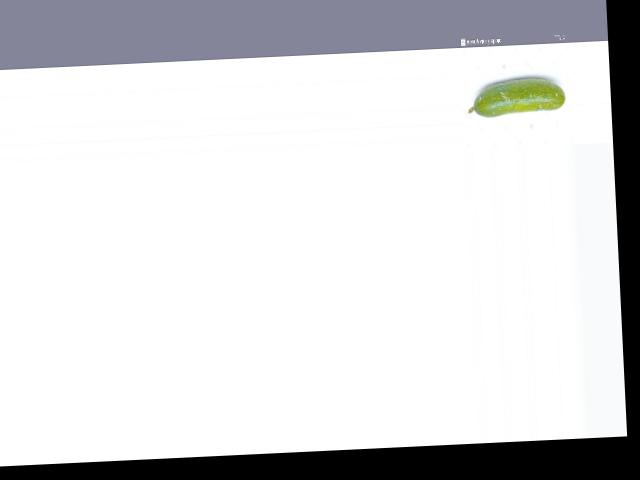cucumber: (466, 76, 567, 118)
